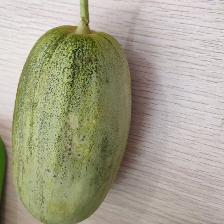gua: (29, 51, 99, 218)
